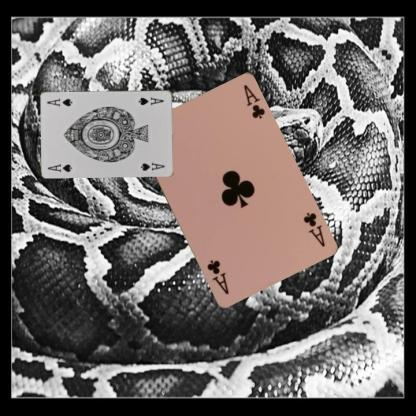Ac: (300, 209, 326, 248)
As: (136, 94, 165, 106), (46, 162, 74, 172)
